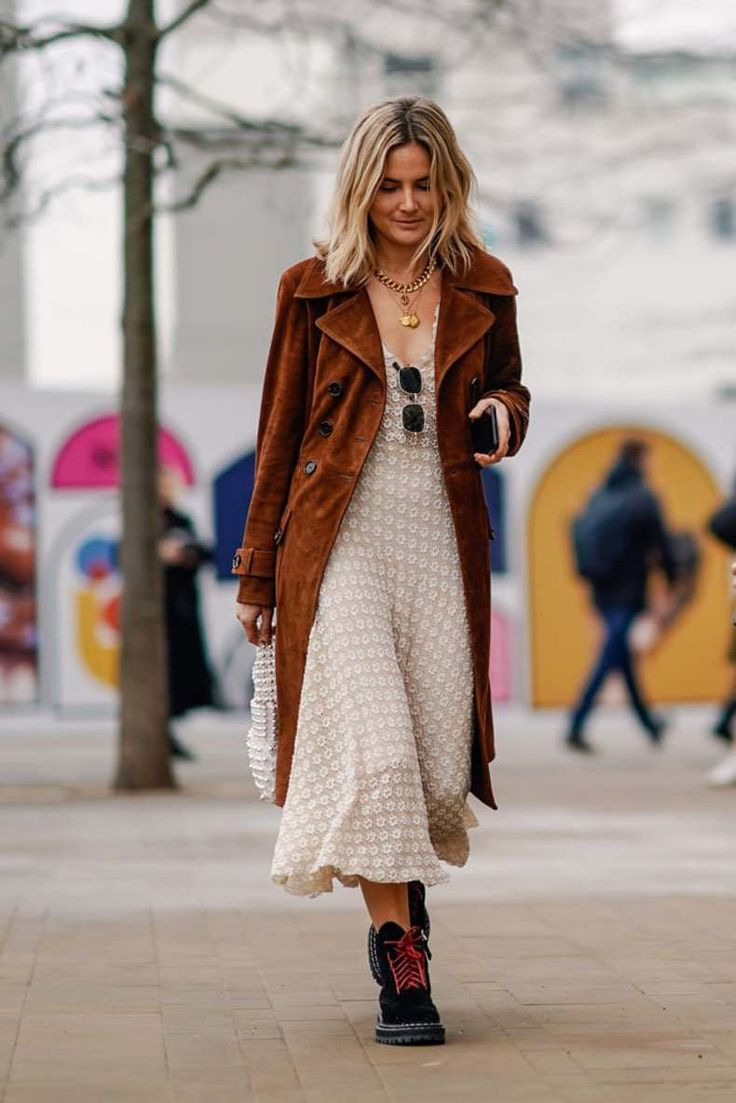gamuza: (228, 243, 530, 1024)
